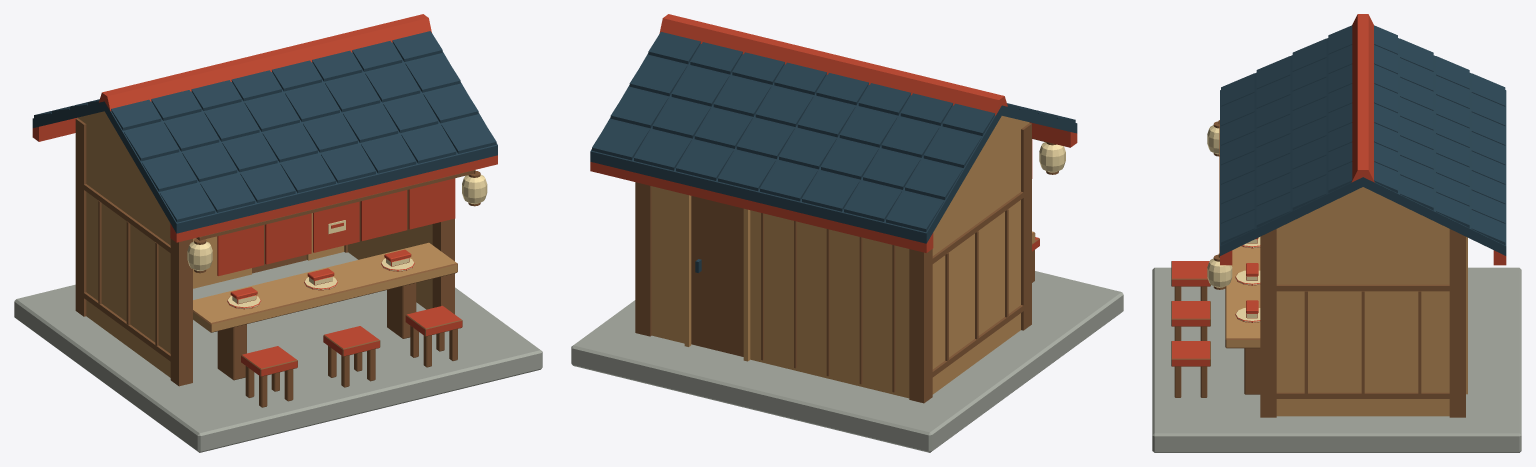
The model's file is craftsman-lv1.glb.
3 renders of one model, left to right at view 1: azimuth 30°, elevation 25°; view 2: azimuth 150°, elevation 25°; view 3: azimuth 270°, elevation 25°, orthographic. The views are drawn at different scales.
Parts seen in each view (by area): view 1: Craftsman_L1; view 2: Craftsman_L1; view 3: Craftsman_L1.
Boxes of the visible parts, <box> form: Craftsman_L1: <box>14,14,542,452</box>; Craftsman_L1: <box>571,14,1123,452</box>; Craftsman_L1: <box>1152,14,1521,452</box>.
Size of the model in its own units: 4.4 by 3.4 by 4.1.
